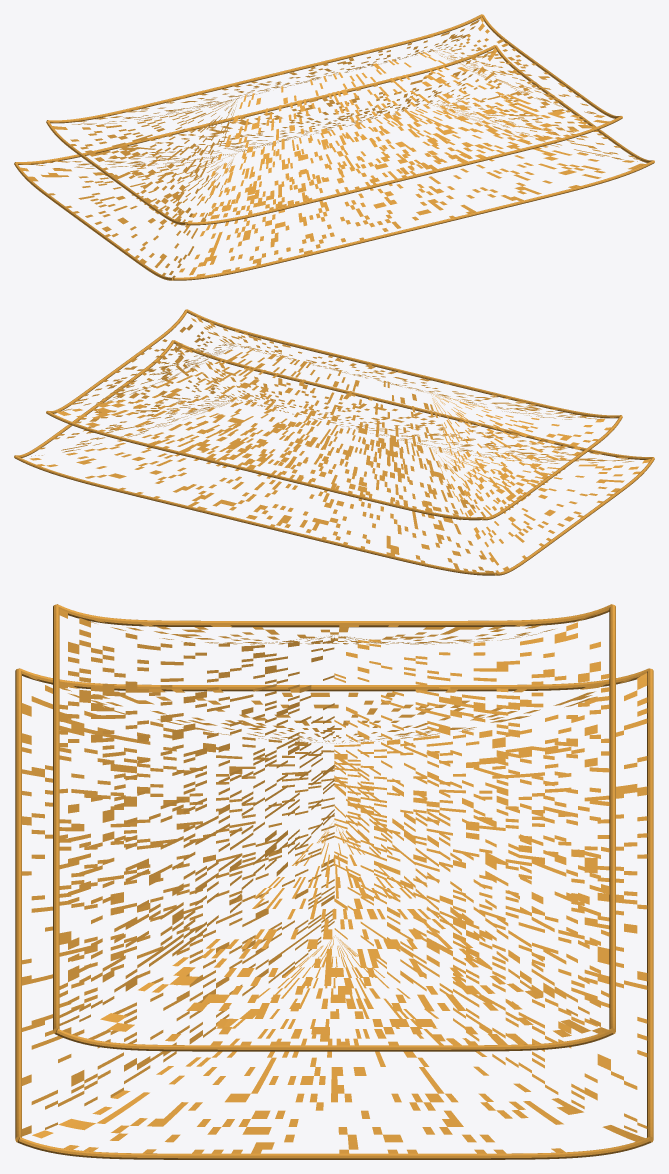
Rendered from SM_13_tile3.fbx.
3 views of the same model, one above another, from view 1: azimuth 30°, elevation 25°; view 2: azimuth 150°, elevation 25°; view 3: azimuth 270°, elevation 25° (orthographic). The views are drawn at different scales.
Visible parts, largest first — view 1: tile3; view 2: tile3; view 3: tile3.
Part boxes in pixels (box(x1,y1,x2,y2)): tile3: box(14, 14, 654, 280); tile3: box(14, 309, 654, 575); tile3: box(15, 604, 653, 1159).
Bounding box in the file's own units: 5332 × 3052 × 1046.
